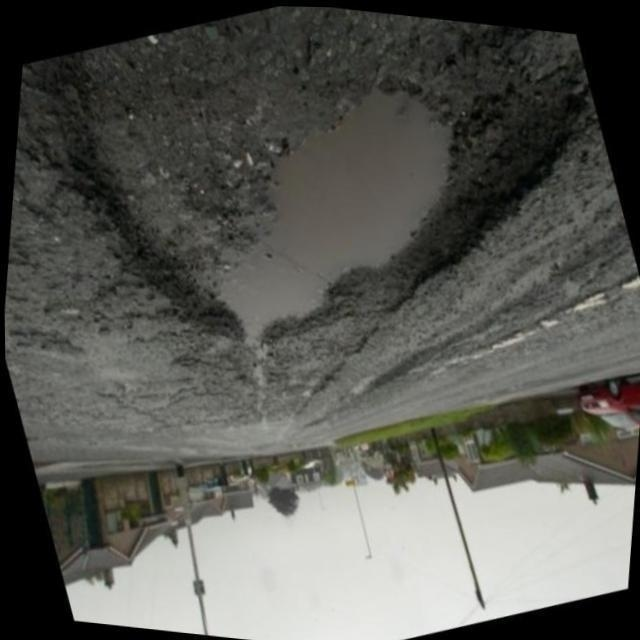pothole: (26, 29, 572, 369)
